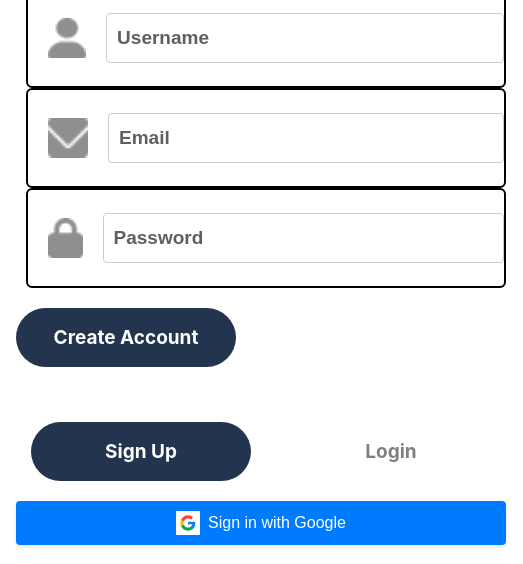
Test: LoginSignUp Component › toggles to Login view when Login is clicked
(page scrolled)
Click the text "Login": (391, 452) [281, 422, 501, 481]
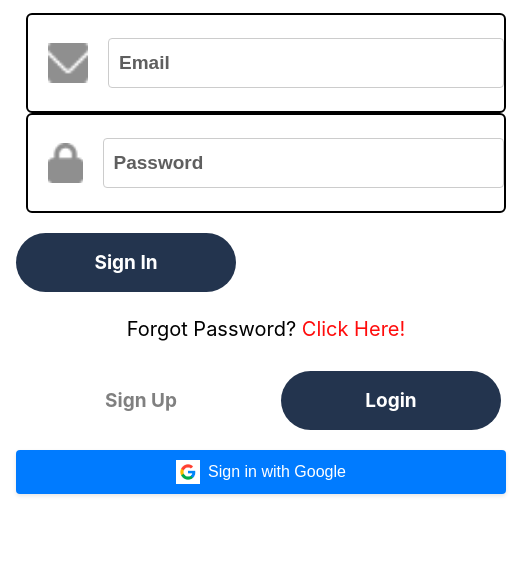
Now the text "Forgot Password?" is shown, box [127, 317, 302, 341]
